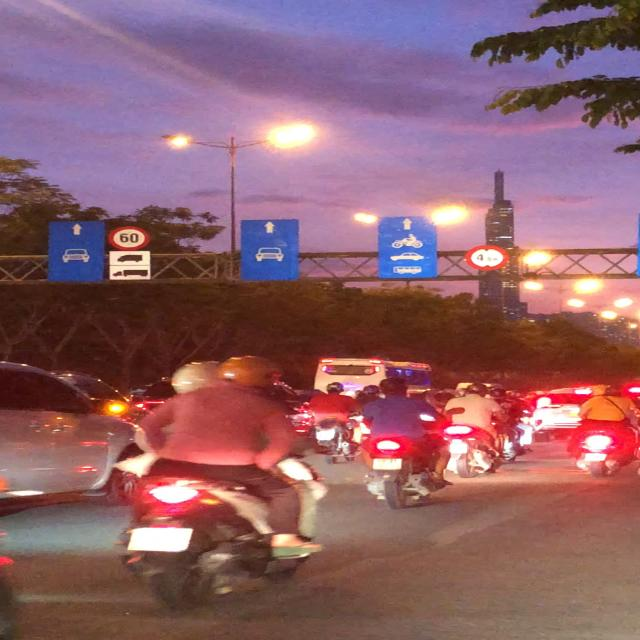Bien bao han che chieu cao: (464, 241, 518, 274)
Bien bao toc do toi da cho phep: (101, 223, 152, 251)
